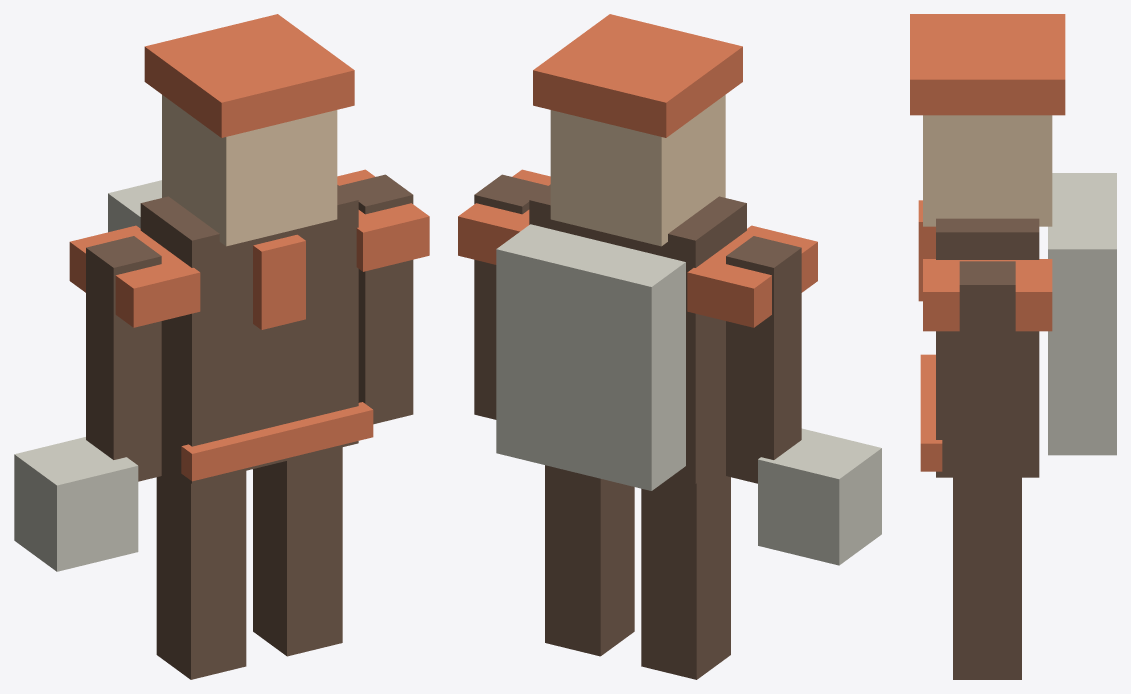
File: 06_asha_brightlock_keeper_at_inferno.glb
The picture shows the model from 3 angles, left to right: view 1: azimuth 30°, elevation 25°; view 2: azimuth 150°, elevation 25°; view 3: azimuth 270°, elevation 25°; orthographic projection.
Visible parts, largest first — view 1: Asha Brightlock, Keeper at Inferno; view 2: Asha Brightlock, Keeper at Inferno; view 3: Asha Brightlock, Keeper at Inferno.
Boxes of the visible parts, left/top/right/bottom form: Asha Brightlock, Keeper at Inferno: left=14, top=14, right=429, bottom=679; Asha Brightlock, Keeper at Inferno: left=458, top=14, right=881, bottom=679; Asha Brightlock, Keeper at Inferno: left=910, top=14, right=1116, bottom=679.
Bounding box in the file's own units: 1.07 × 1.65 × 0.5181.
